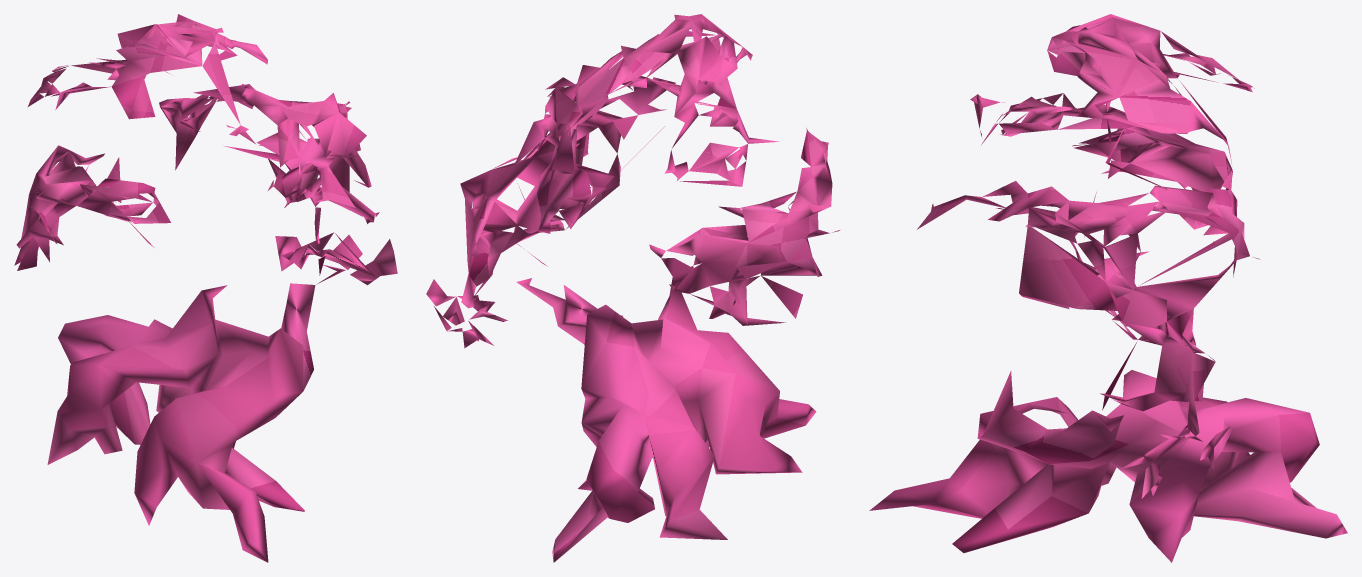
The model's file is tree_blossom_shadow.glb.
The picture shows the model from 3 angles, left to right: view 1: azimuth 30°, elevation 25°; view 2: azimuth 150°, elevation 25°; view 3: azimuth 270°, elevation 25°; orthographic projection. The views are drawn at different scales.
Parts seen in each view (by area): view 1: plant; view 2: plant; view 3: plant.
Part boxes in pixels (x1=…): plant: x1=14, y1=14, x2=397, y2=562; plant: x1=426, y1=14, x2=840, y2=562; plant: x1=869, y1=14, x2=1347, y2=562.
Bounding box in the file's own units: 3.73 × 4.26 × 3.7.
Materials: 1 (1 with a texture image).
